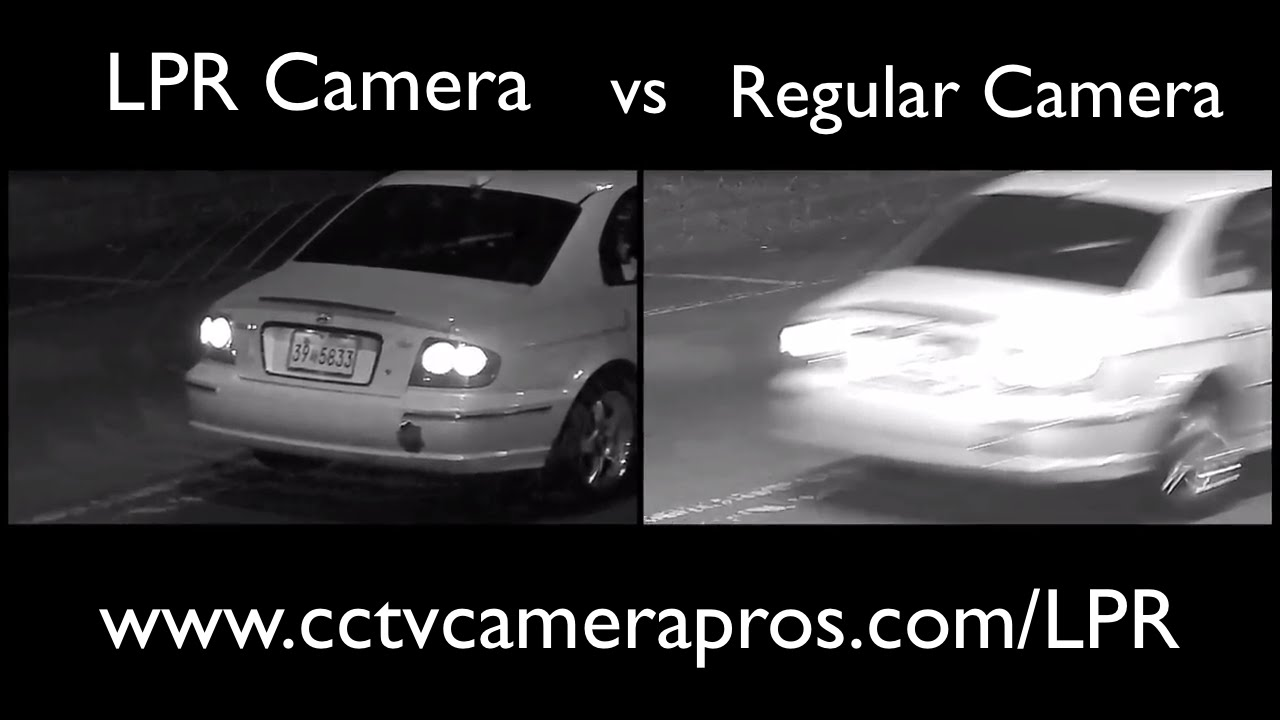license plate: (282, 328, 358, 380)
